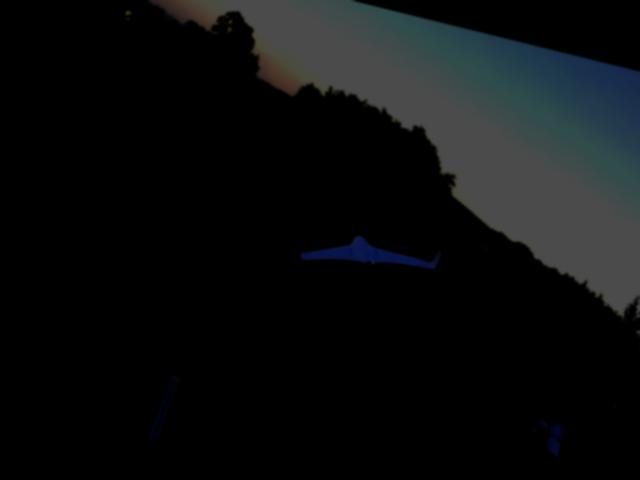plane: (291, 218, 441, 296)
